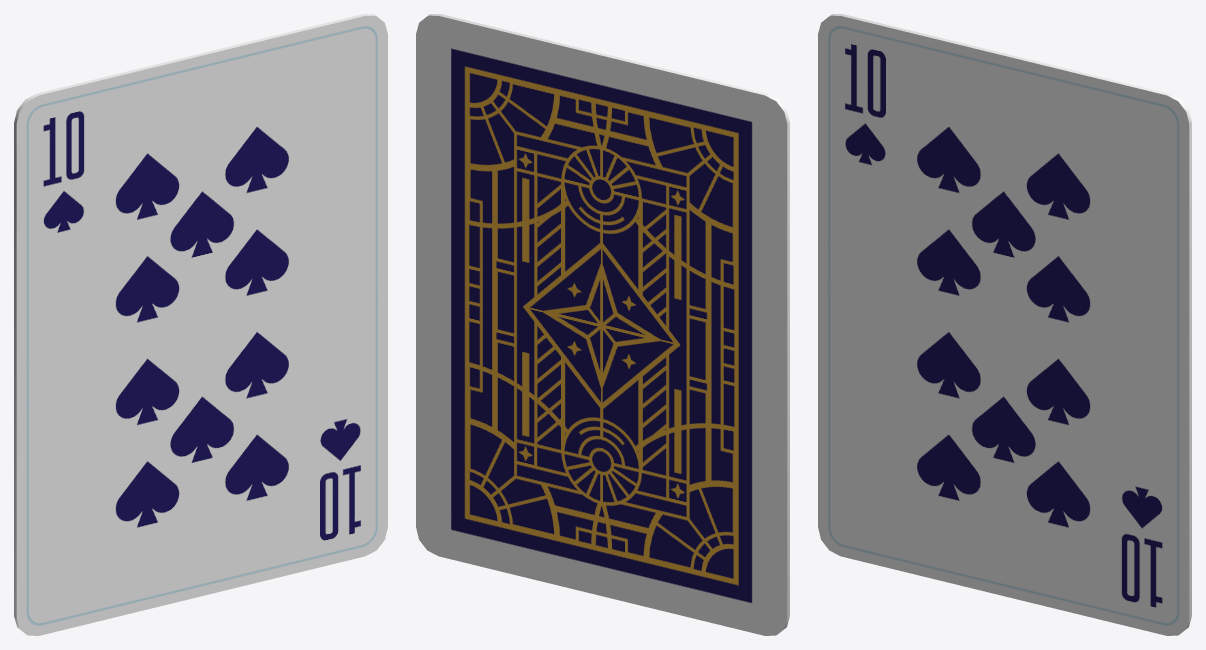
The model's file is card_spades_ten.obj.
3 views of the same model, side by side, from view 1: azimuth 30°, elevation 25°; view 2: azimuth 150°, elevation 25°; view 3: azimuth 330°, elevation 25° (orthographic).
Visible parts, largest first — view 1: card_spades_ten; view 2: card_spades_ten; view 3: card_spades_ten.
Boxes of the visible parts, <box> form: card_spades_ten: <box>14,14,387,635</box>; card_spades_ten: <box>416,14,789,635</box>; card_spades_ten: <box>818,14,1191,635</box>.
Size of the model in its own units: 4.31 by 6 by 0.05.
Materials: 2 (2 with a texture image).
